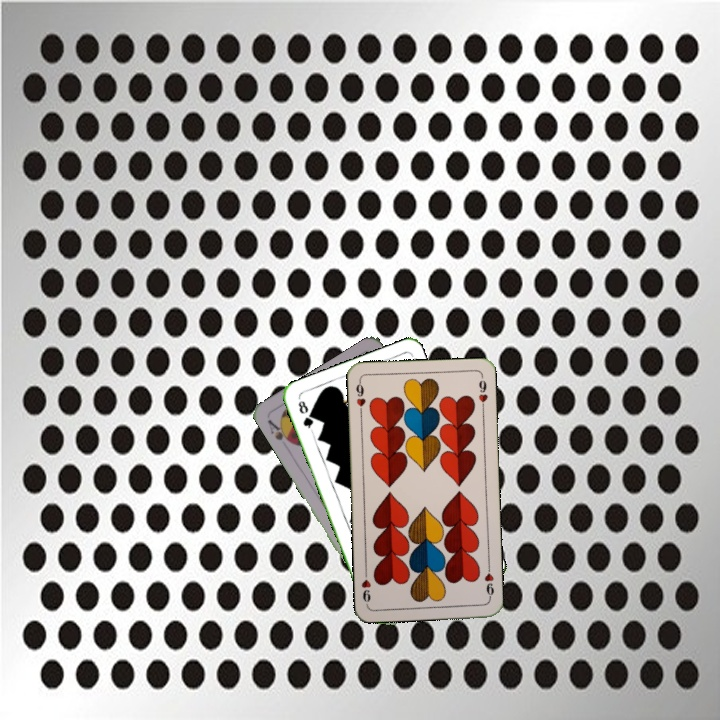G8: (294, 396, 316, 434)
H9: (480, 561, 497, 602), (352, 377, 368, 417)
SA: (263, 415, 296, 447)
